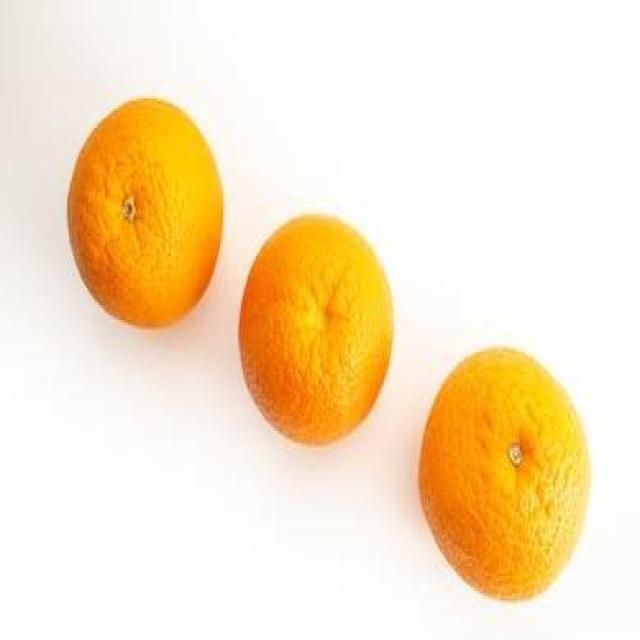orange: (418, 339, 593, 598), (238, 210, 398, 445), (66, 94, 227, 323)
